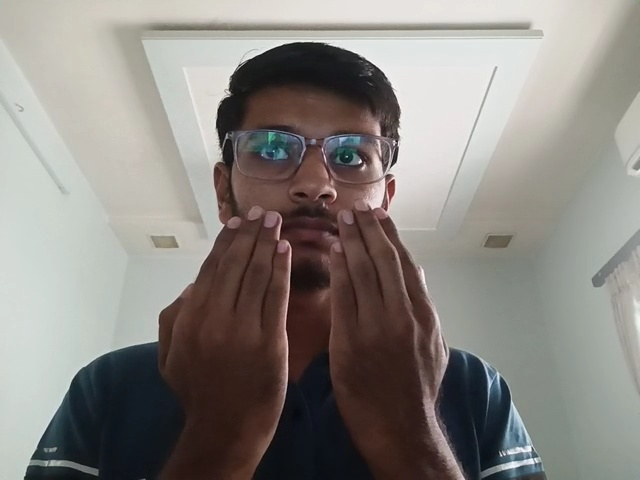Thank You: (149, 197, 463, 454)
